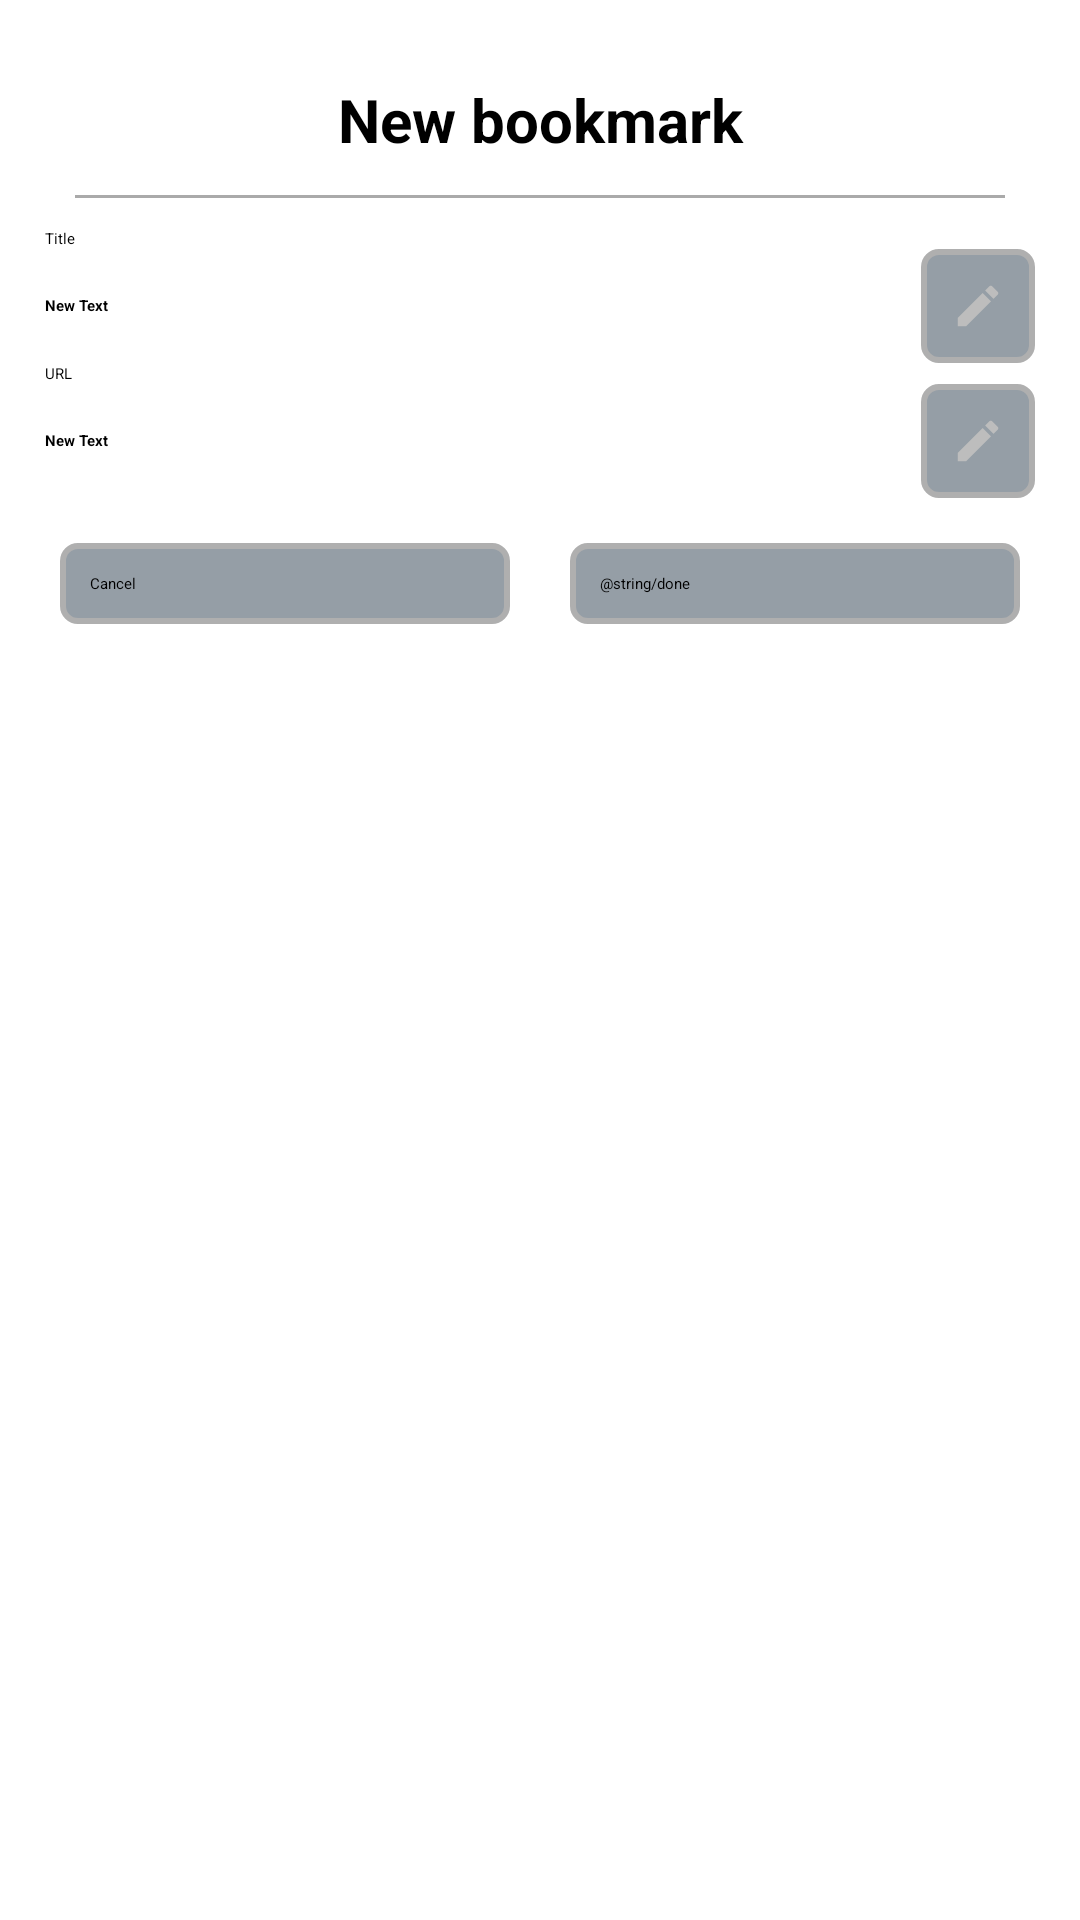

Named icons in this screenshot (1080px x 1920px) and their bounding boxes, (x1, y1, x2, y2):
mode edit: (921, 249, 1035, 363), (921, 384, 1035, 498)
